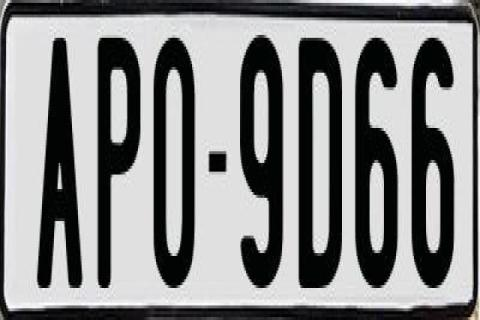0: (239, 27, 287, 297), (354, 32, 402, 288), (410, 32, 451, 288), (152, 35, 192, 291)
A: (34, 38, 80, 306)
D: (299, 29, 345, 279)
P: (94, 35, 144, 303)
